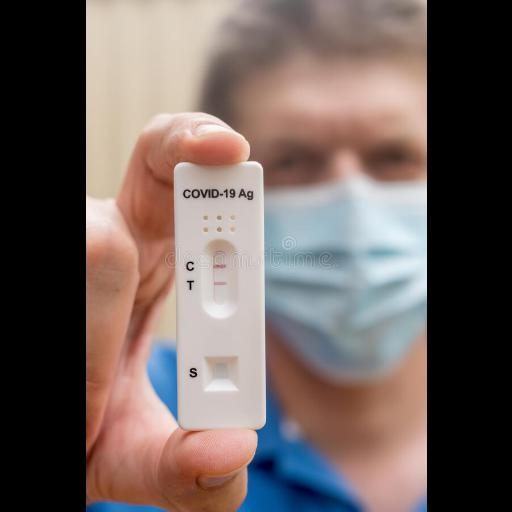Pos: (172, 162, 266, 430)
